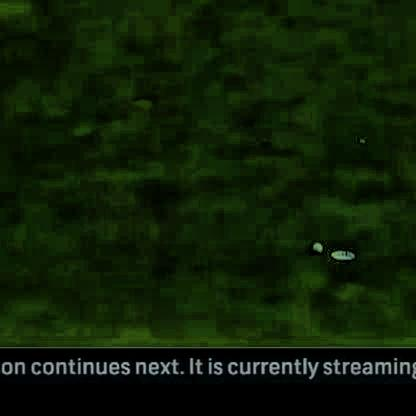golfball: (307, 240, 320, 251)
